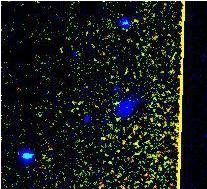star: (111, 73, 141, 103)
